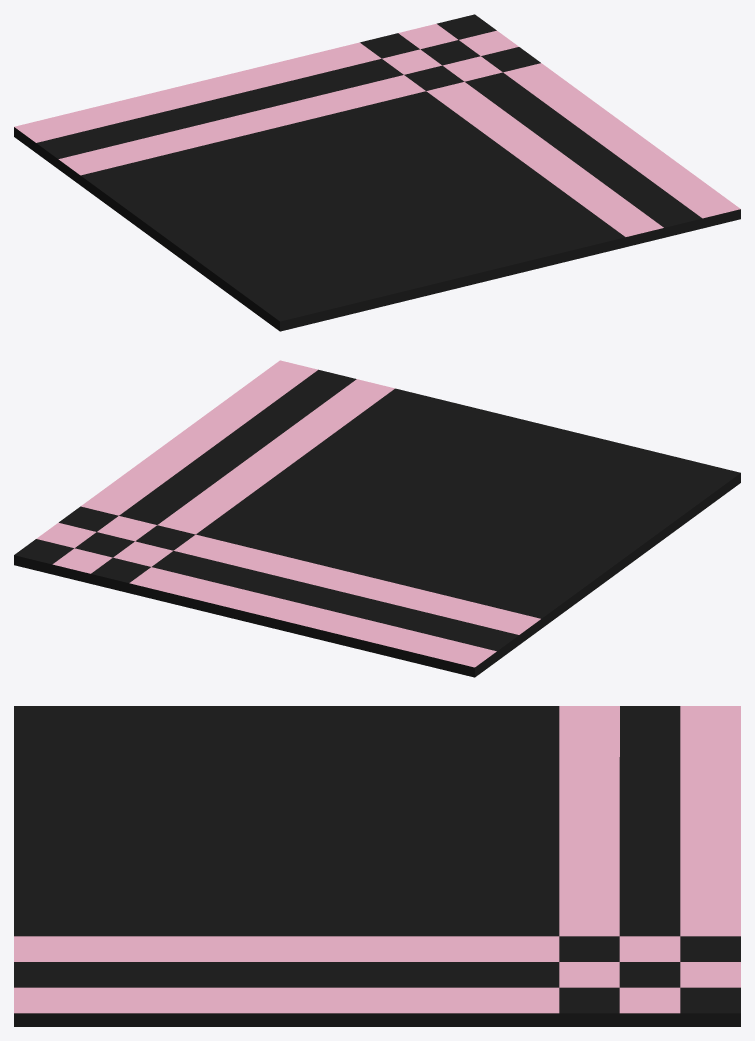
File: asthetic-floor-tile-corner-by-trash---tanuki-89xu7cAjeHJ.glb
The picture shows the model from 3 angles, top to bottom: view 1: azimuth 30°, elevation 25°; view 2: azimuth 150°, elevation 25°; view 3: azimuth 270°, elevation 25°; orthographic projection. The views are drawn at different scales.
Visible parts, largest first — view 1: group735054256; view 2: group735054256; view 3: group735054256.
Boxes of the visible parts, x1,y1,x2,y2 form: group735054256: [14, 14, 740, 331]; group735054256: [14, 360, 740, 677]; group735054256: [14, 706, 740, 1026].
Size of the model in its own units: 0.96 by 0.02 by 0.96.
